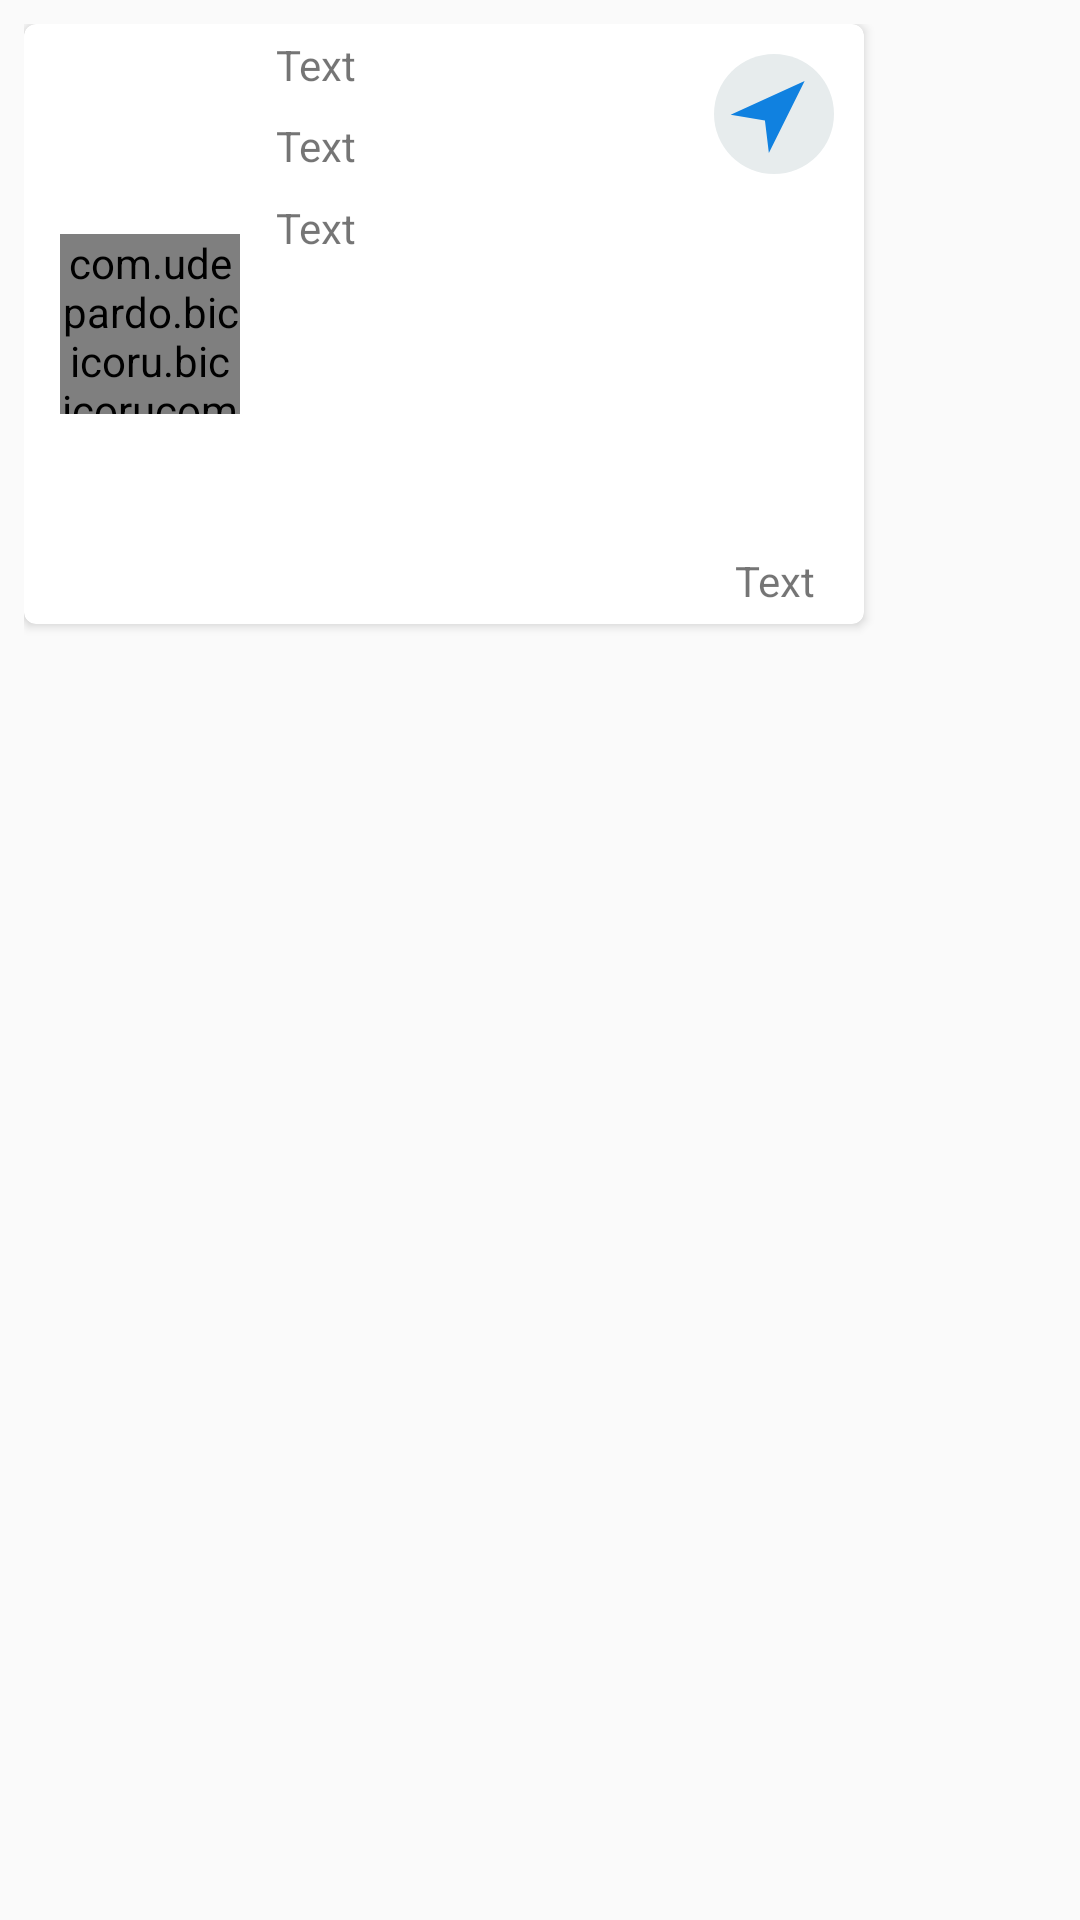

Screen size 1080px×1920px. Icon name, then its box in pixels as (x1, y1, x2, y2):
navigation: (730, 31, 864, 153)
